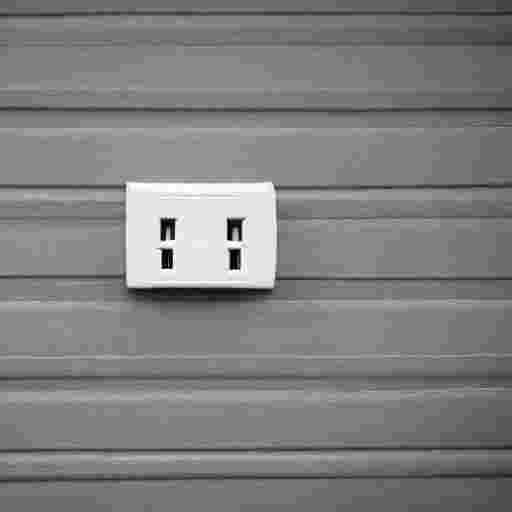power outlet: (125, 181, 276, 288)
